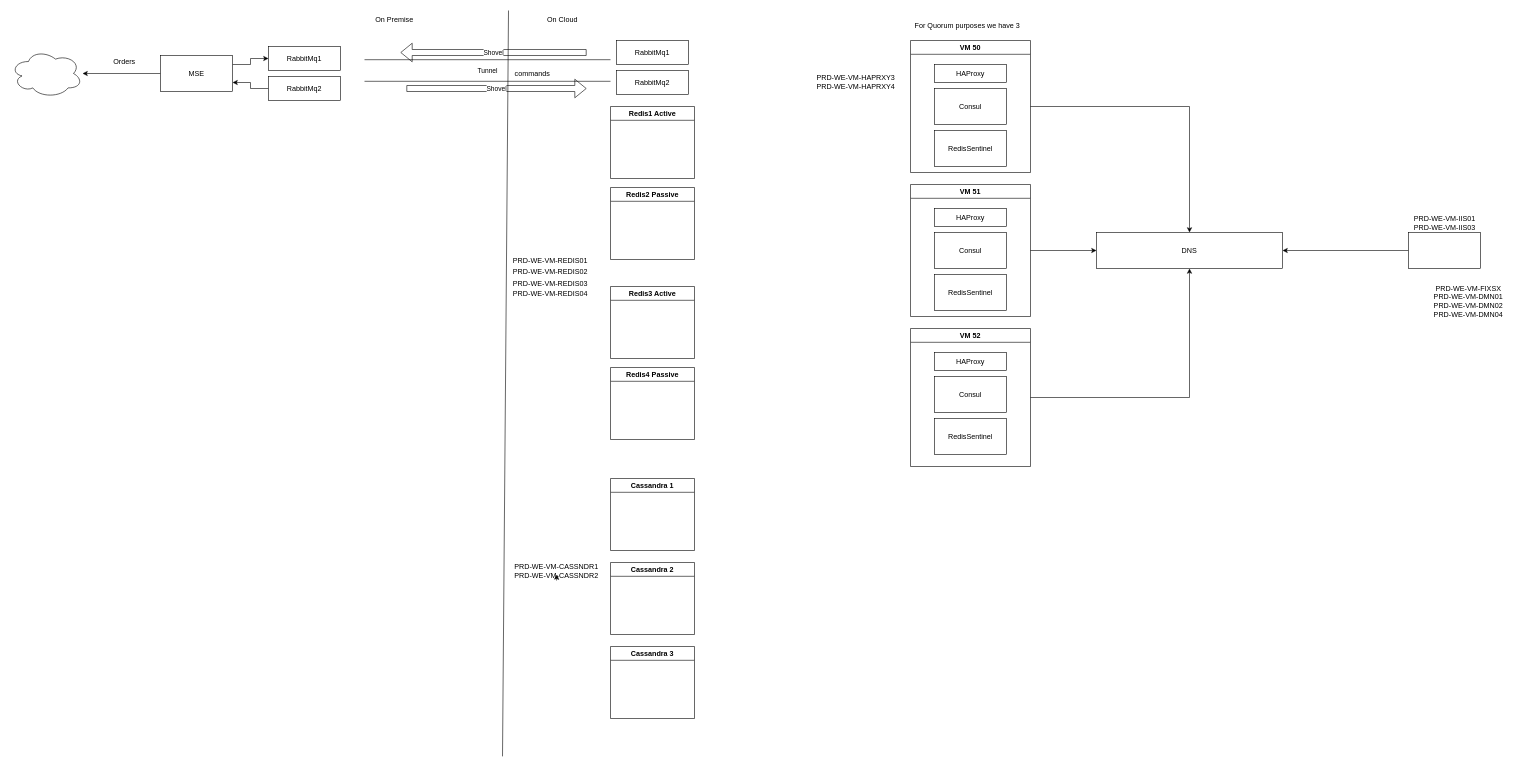
The diagram is 1533 pixels wide and 768 high, and some of its shapes have lost their labels. Here are the shapes that lost their labels. From the top down, the centre of each, then its label:
At (x=46, y=73): "Xetra".
At (x=1444, y=250): "CCTrader".
